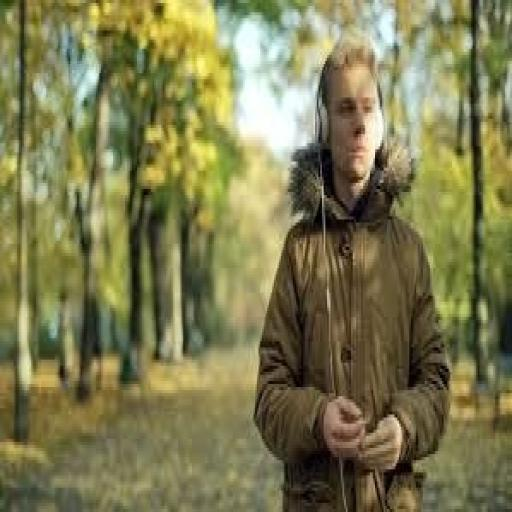listening_to_music: (252, 30, 454, 509)
